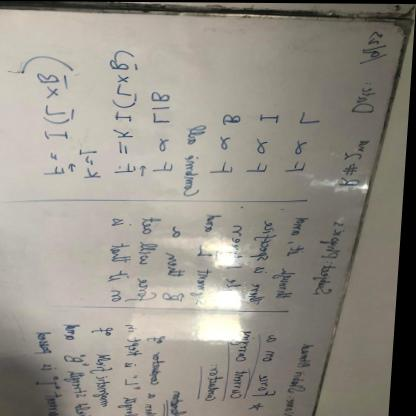Handwritten text: (17, 318, 70, 398), (57, 315, 101, 403), (100, 215, 141, 306), (135, 214, 170, 306), (193, 206, 224, 308), (250, 211, 282, 309), (89, 316, 121, 413), (220, 219, 251, 310), (119, 319, 148, 416), (180, 122, 214, 196), (165, 222, 193, 308), (233, 324, 260, 405), (261, 326, 289, 402), (148, 331, 176, 401), (148, 84, 179, 127), (349, 83, 385, 117), (208, 362, 234, 406), (298, 104, 327, 128), (213, 155, 239, 181), (258, 107, 285, 129), (287, 160, 316, 178), (222, 110, 249, 129), (244, 159, 276, 175), (156, 155, 181, 175)
Whiteboard: (0, 6, 415, 416)
